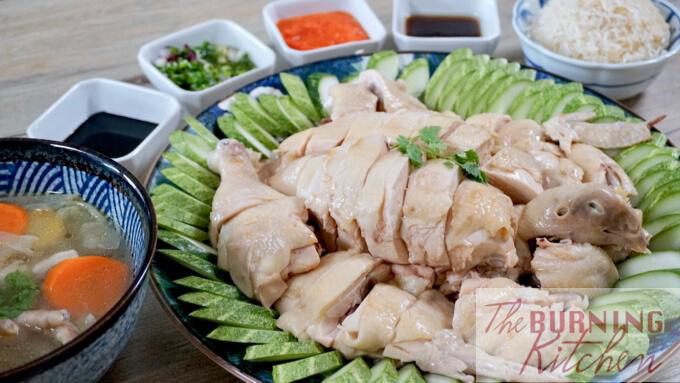Steamed Chicken Rice: (211, 85, 661, 368)
